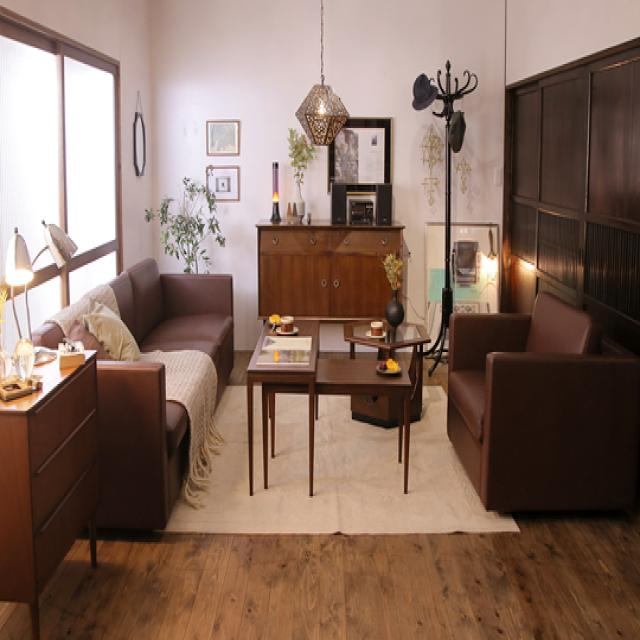vintage desk: (245, 295, 320, 504)
vintage sofa: (438, 286, 640, 522)
